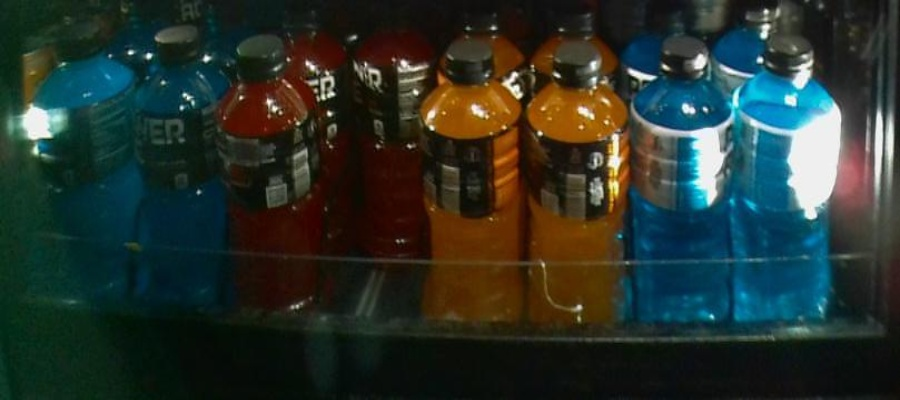bottle: (217, 33, 326, 316), (26, 20, 133, 303), (525, 45, 631, 329), (633, 41, 736, 333), (741, 37, 839, 335), (422, 44, 521, 320), (136, 19, 215, 302), (350, 1, 429, 259)
